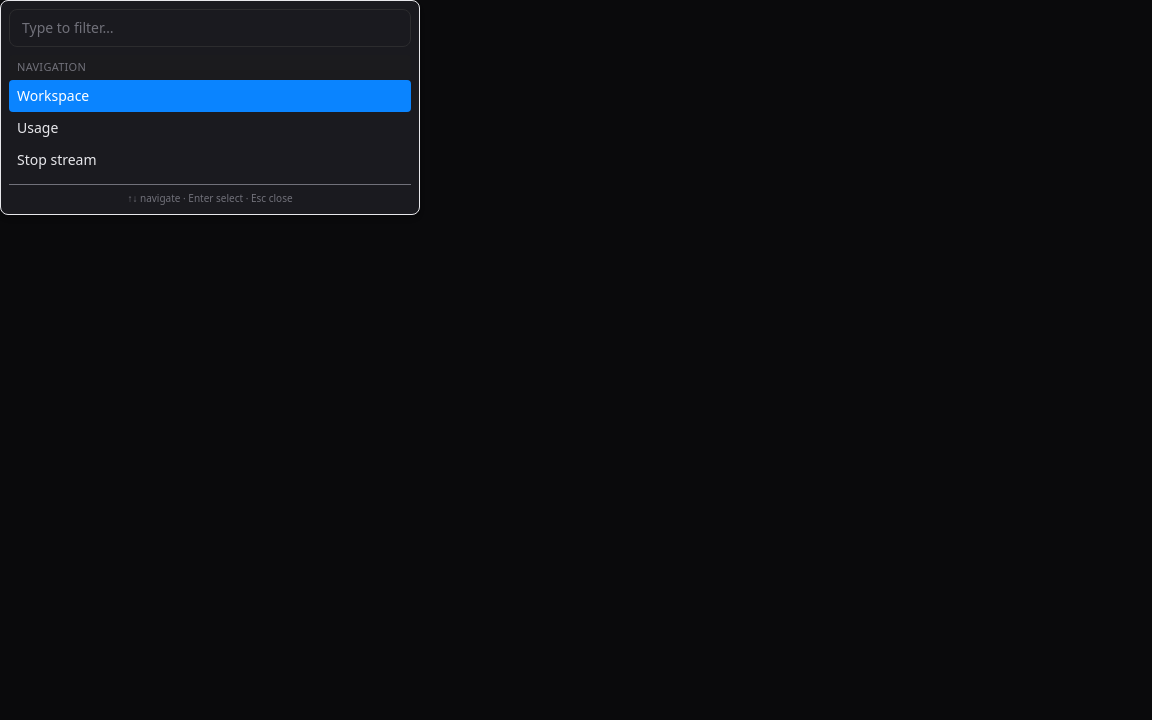
Test case: QuickPick rendering › filters as the user types
In the dropdown with test id "quickpick-input": (210, 28) [9,9,411,47], type "wrksp"
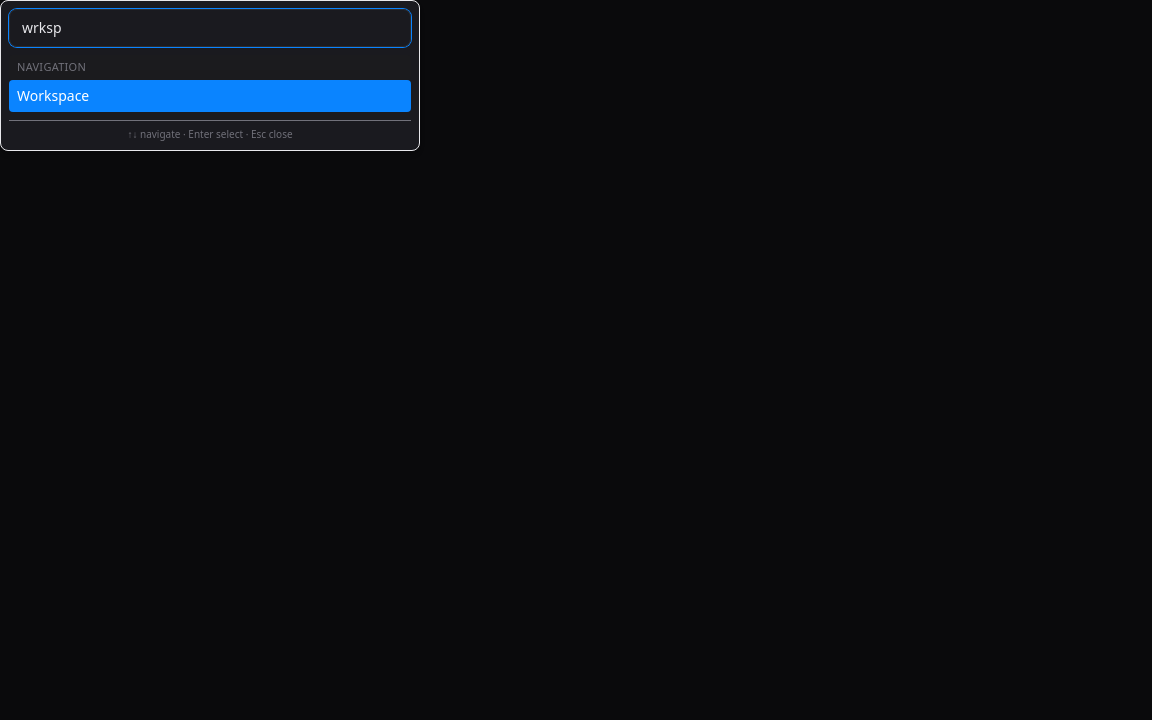
Now the number of options with test id "quickpick-item" is 1, box [9,80,411,112]
